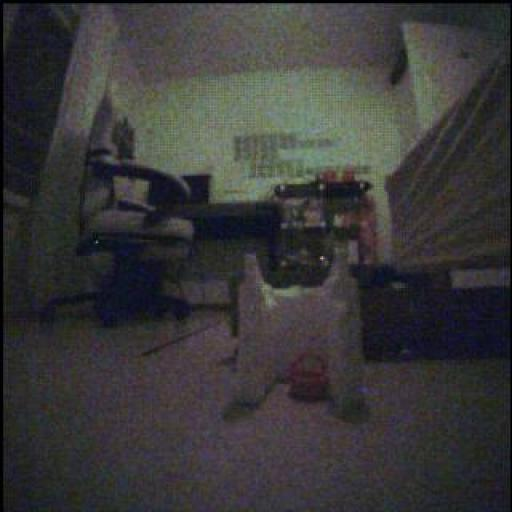basket: (291, 353, 329, 403)
